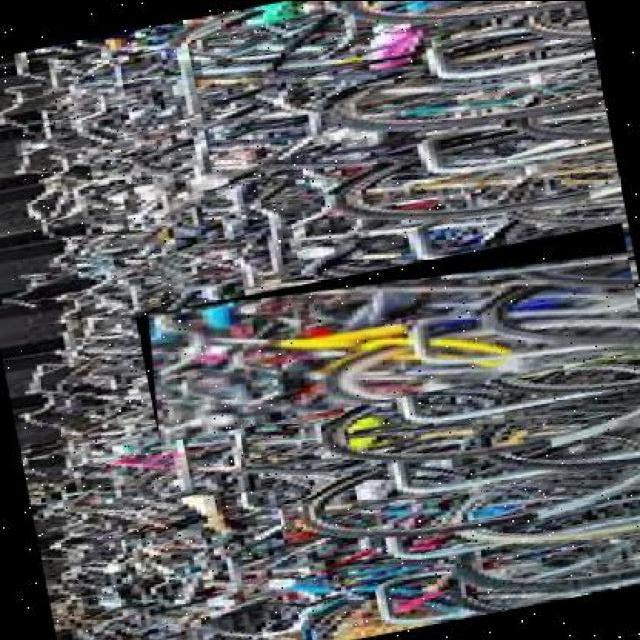bicycle: (135, 222, 639, 446)
